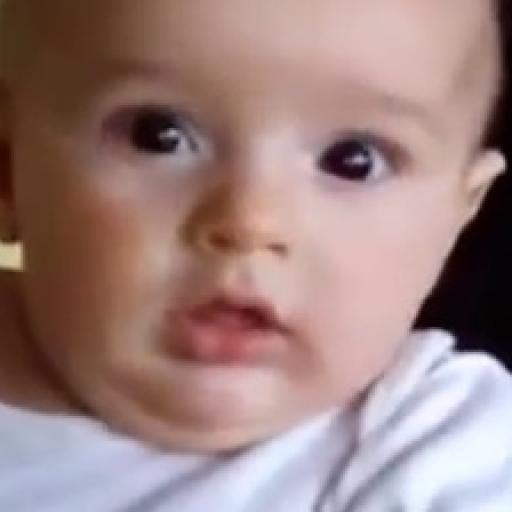Autism: (27, 0, 466, 485)
